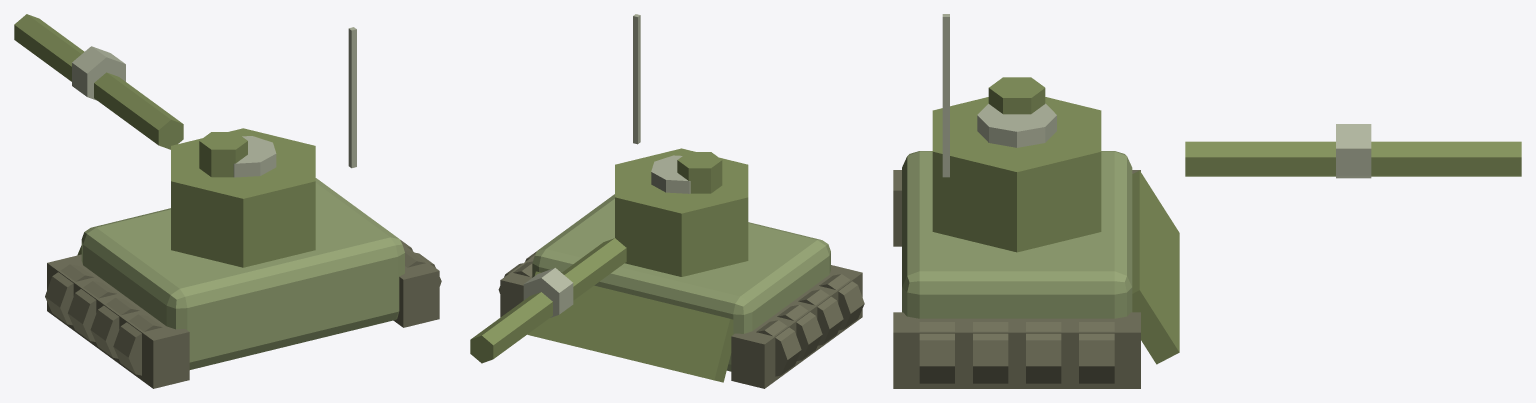
Rendered from unit_tank.glb.
3 views of the same model, side by side, from view 1: azimuth 30°, elevation 25°; view 2: azimuth 150°, elevation 25°; view 3: azimuth 270°, elevation 25° (orthographic). The views are drawn at different scales.
Visible parts, largest first — view 1: unit_tank; view 2: unit_tank; view 3: unit_tank.
Part boxes in pixels (left/top/right/bottom): unit_tank: left=14, top=14, right=441, bottom=388; unit_tank: left=470, top=14, right=864, bottom=388; unit_tank: left=893, top=14, right=1521, bottom=388.
Size of the model in its own units: 0.476 by 0.42 by 0.71.
